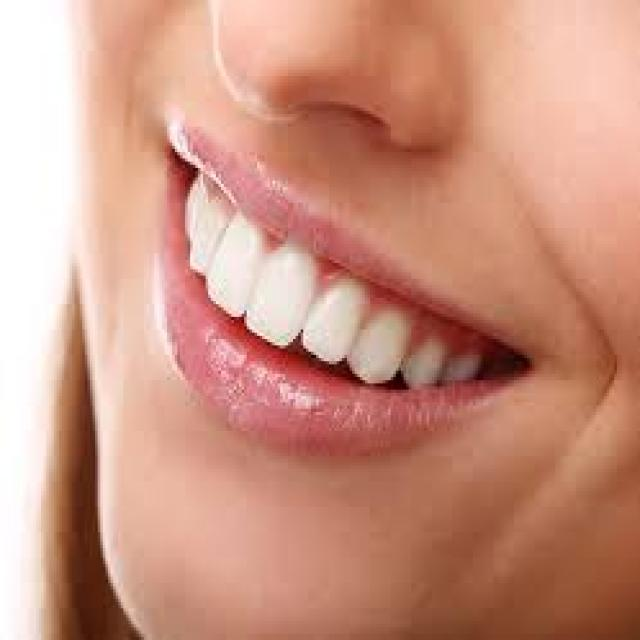tooth: (267, 244, 306, 329), (321, 270, 350, 364), (223, 218, 254, 298), (370, 307, 401, 371), (193, 216, 213, 270), (416, 336, 437, 380), (450, 345, 478, 377), (188, 177, 198, 225)
